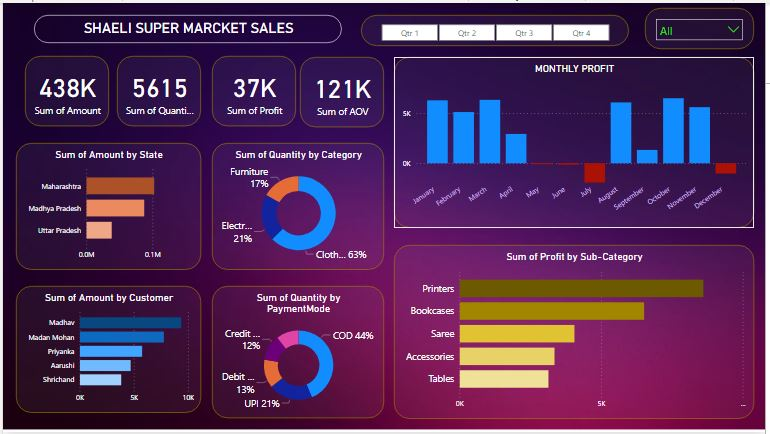

This screenshot's page, from the dashboard's own definition file:
{"tool":"powerbi","page":{"name":"Page 1","canvas":[1280,720],"ordinal":0},"visuals":[{"type":"columnChart","title":"MONTHLY PROFIT","fields":{"Y":["Details.Profit"],"Category":["Orders.Order Date.Variation.Date Hierarchy.Month"]},"box":[656.8,90.7,604.7,287.2],"z":1000},{"type":"barChart","fields":{"Y":["Details.Profit"],"Category":["Details.Sub-Category"]},"box":[656.8,406.5,604.7,292.3],"z":2000},{"type":"donutChart","fields":{"Category":["Details.Category"],"Y":["Details.Quantity"]},"box":[351.1,235.2,288.9,213.3],"z":3000},{"type":"donutChart","fields":{"Category":["Details.PaymentMode"],"Y":["Details.Quantity"]},"box":[351.1,475.4,288.9,221.7],"z":4000},{"type":"card","fields":{"Values":["Details.AOV"]},"box":[498.9,90.7,141.1,117.6],"z":5000},{"type":"card","fields":{"Values":["Details.Profit"]},"box":[351.1,89,141.1,117.6],"z":6000},{"type":"card","fields":{"Values":["Details.Quantity"]},"box":[191.5,89,141.1,117.6],"z":7000},{"type":"card","fields":{"Values":["Details.Amount"]},"box":[37,89,141.1,117.6],"z":8000},{"type":"barChart","fields":{"Y":["Details.Amount"],"Category":["Orders.State"]},"box":[21.8,235.2,310.8,213.3],"z":8001},{"type":"barChart","title":"Sum of Amount by Customer","fields":{"Category":["Orders.CustomerName"],"Y":["Details.Amount"]},"box":[21.8,475.4,310.8,213.3],"z":8002},{"type":"slicer","fields":{"Values":["Orders.Order Date.Variation.Date Hierarchy.Quarter"]},"box":[601.4,20.2,450.2,52.1],"z":8003},{"type":"textbox","title":"SHAELI SUPER MARCKET SALES","box":[52.1,20.2,517.4,47],"z":8004},{"type":"slicer","fields":{"Values":["Orders.State"]},"box":[1078.4,8.4,183.1,68.9],"z":8005}]}

Visuals, with their boxes in screenshot pixels (x1, y1, x2, y2), scaled from the page's 1280x720 canvas onto the 770x434 screenshot:
"MONTHLY PROFIT" columnChart: [left=395, top=55, right=759, bottom=228]
barChart - Details.Profit x Details.Sub-Category: [left=395, top=245, right=759, bottom=421]
donutChart - Details.Category x Details.Quantity: [left=211, top=142, right=385, bottom=270]
donutChart - Details.PaymentMode x Details.Quantity: [left=211, top=287, right=385, bottom=420]
card - Details.AOV: [left=300, top=55, right=385, bottom=126]
card - Details.Profit: [left=211, top=54, right=296, bottom=125]
card - Details.Quantity: [left=115, top=54, right=200, bottom=125]
card - Details.Amount: [left=22, top=54, right=107, bottom=125]
barChart - Details.Amount x Orders.State: [left=13, top=142, right=200, bottom=270]
"Sum of Amount by Customer" barChart: [left=13, top=287, right=200, bottom=415]
slicer - Orders.Order Date.Variation.Date Hierarchy.Quarter: [left=362, top=12, right=633, bottom=44]
"SHAELI SUPER MARCKET SALES" textbox: [left=31, top=12, right=343, bottom=41]
slicer - Orders.State: [left=649, top=5, right=759, bottom=47]
